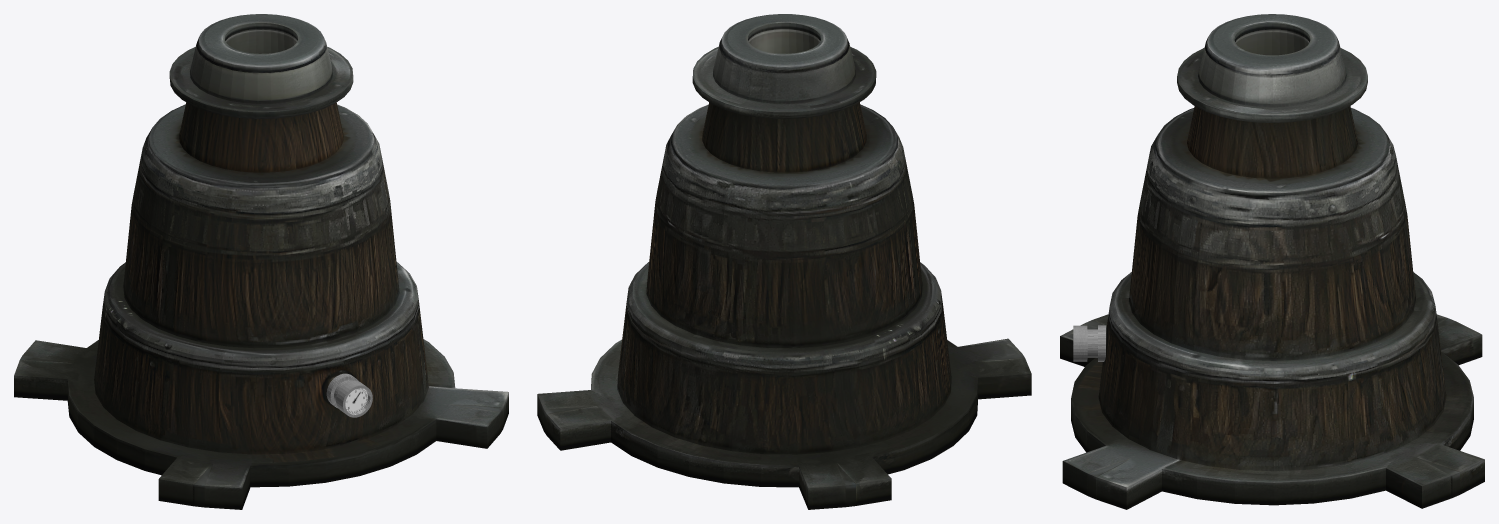
File: Bomb Tower Lv 2.fbx
3 renders of one model, left to right at view 1: azimuth 30°, elevation 25°; view 2: azimuth 150°, elevation 25°; view 3: azimuth 270°, elevation 25°, orthographic. The views are drawn at different scales.
Visible parts, largest first — view 1: Bomb Tower Lv 2; view 2: Bomb Tower Lv 2; view 3: Bomb Tower Lv 2.
Boxes of the visible parts, x1,y1,x2,y2 form: Bomb Tower Lv 2: (14, 14, 508, 509); Bomb Tower Lv 2: (537, 14, 1031, 509); Bomb Tower Lv 2: (1060, 14, 1484, 509).
Bounding box in the file's own units: 7.11 × 7.03 × 7.11.
Materials: 2 (2 with a texture image).
